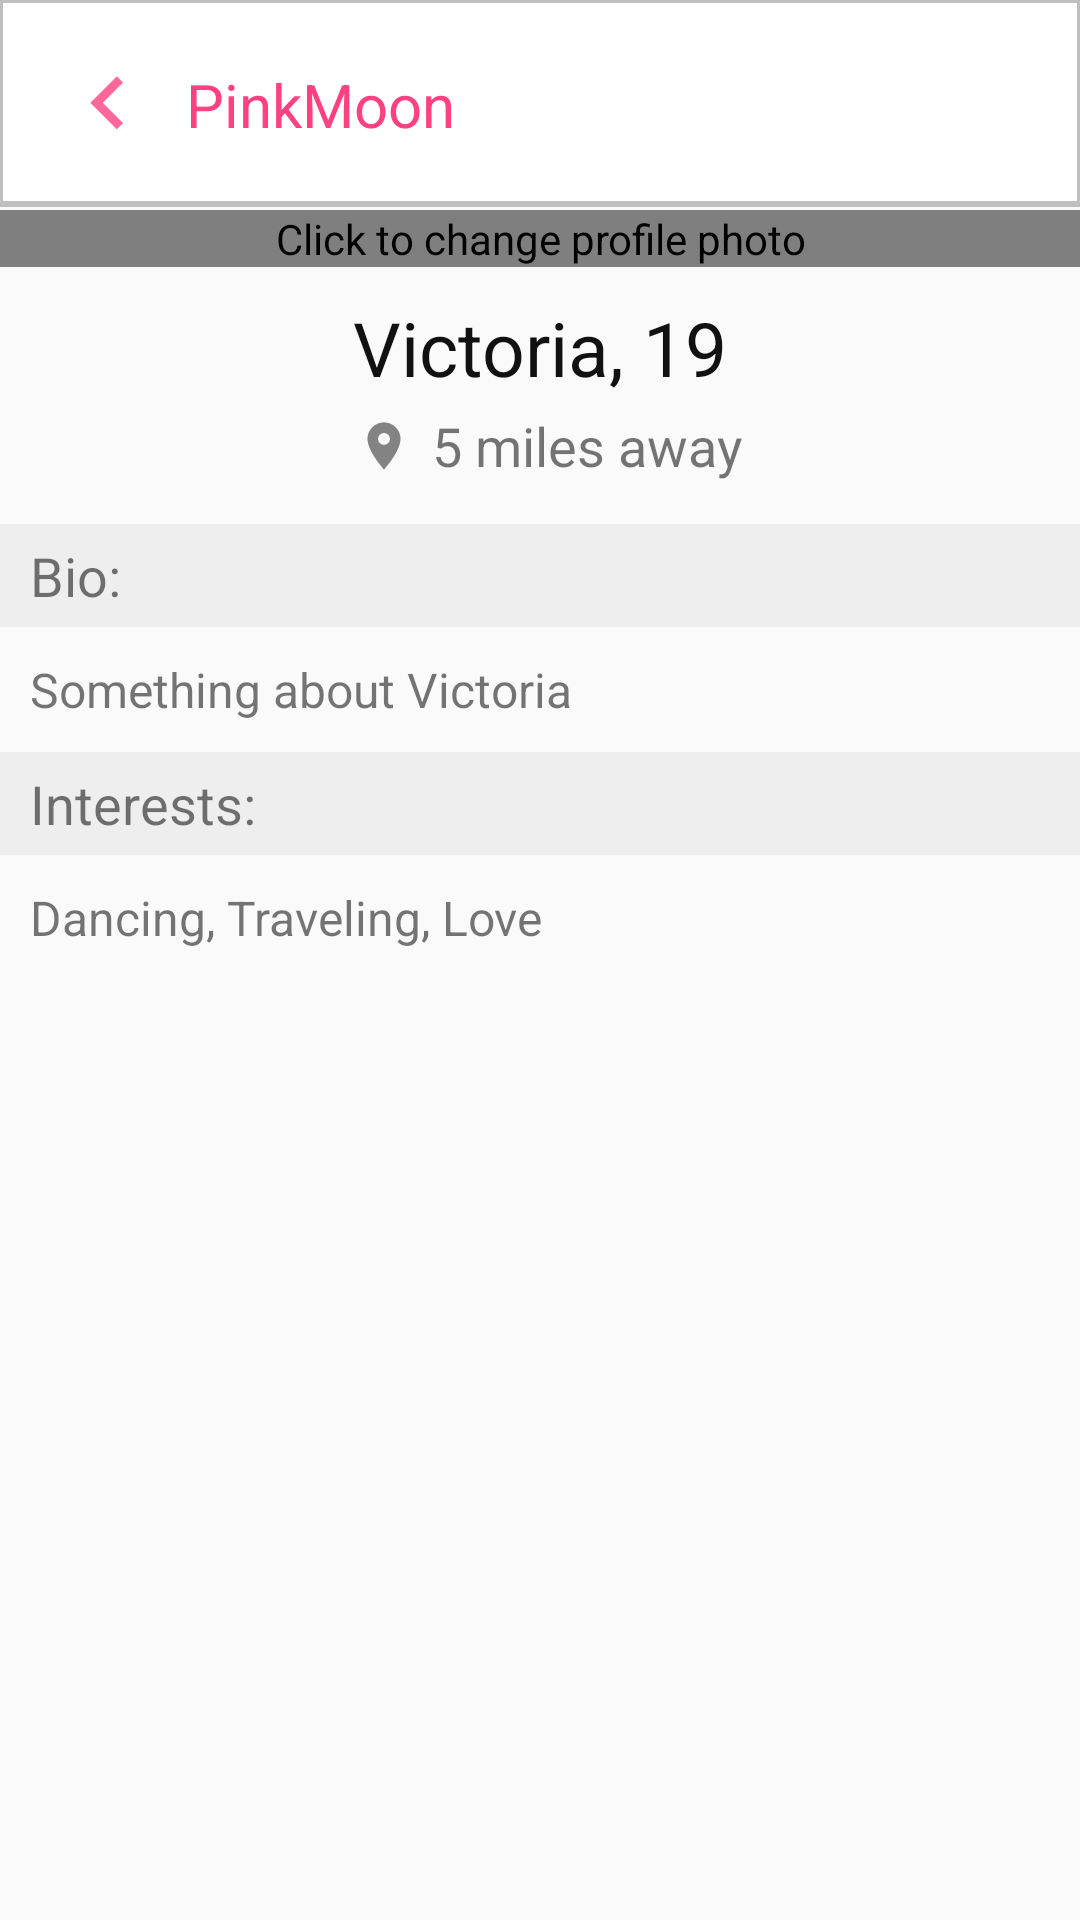

Icons on this 1080*1920 Android screen, each with its box as [left=x1, top=y1, right=x2, bottom=y2]:
backarrow: [left=90, top=76, right=123, bottom=129]
